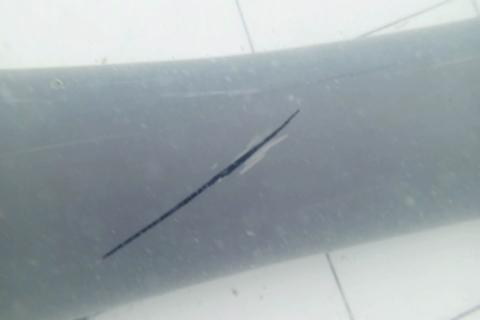keretakan: (100, 107, 300, 258)
